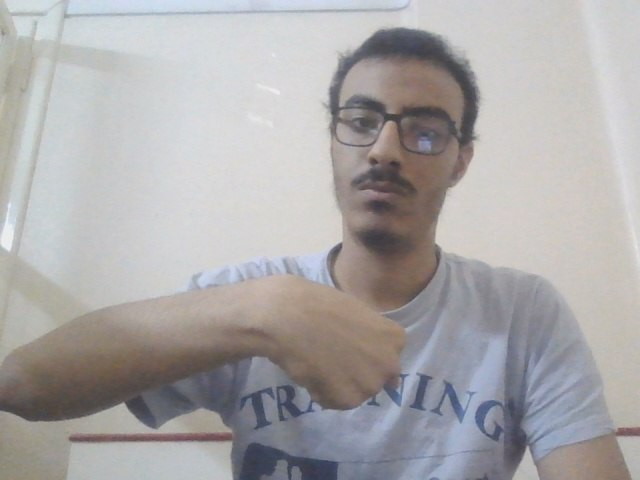Me: (273, 270, 411, 416)
